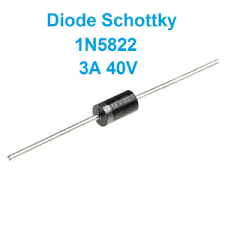diode: (81, 82, 160, 146)
